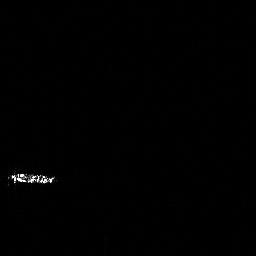ship: (5, 170, 59, 187)
